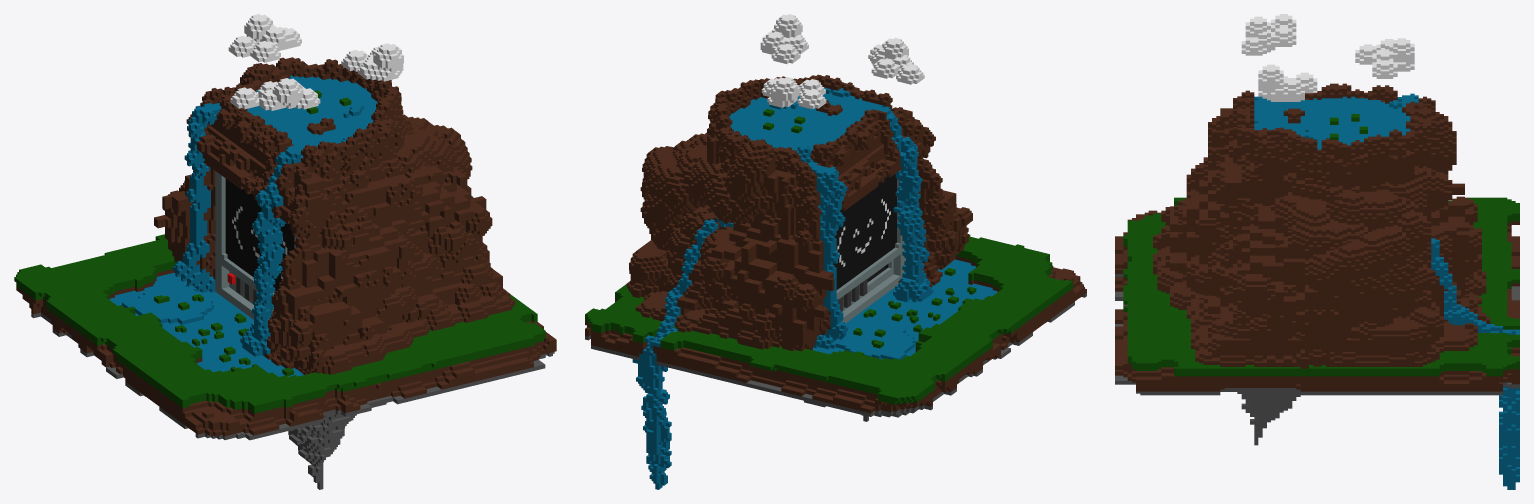
Rendered from CV_Center.glb.
The picture shows the model from 3 angles, left to right: view 1: azimuth 30°, elevation 25°; view 2: azimuth 150°, elevation 25°; view 3: azimuth 270°, elevation 25°; orthographic projection. The views are drawn at different scales.
Visible parts, largest first — view 1: Untitled; view 2: Untitled; view 3: Untitled.
Boxes of the visible parts, box(x1,y1,x2,y2) form: Untitled: box(14, 14, 556, 489); Untitled: box(585, 14, 1086, 489); Untitled: box(1115, 14, 1519, 489).
Bounding box in the file's own units: 9.9 × 10.8 × 9.6.
Materials: 1 (1 with a texture image).
